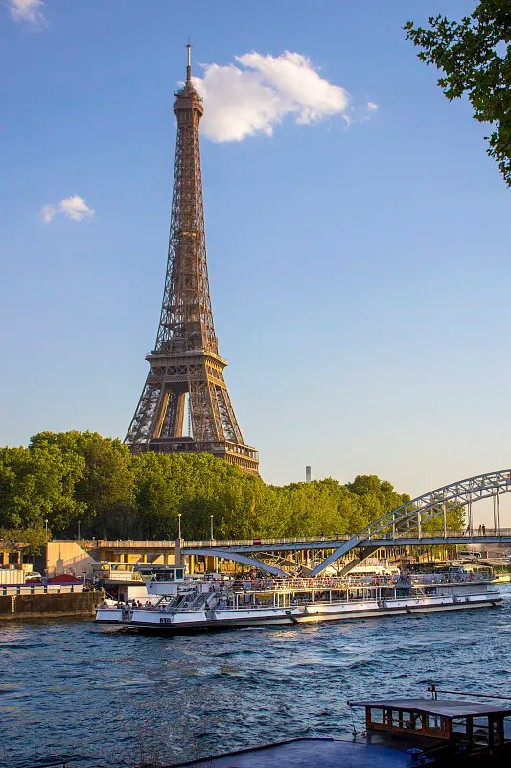Eiffel: (121, 36, 262, 484)
